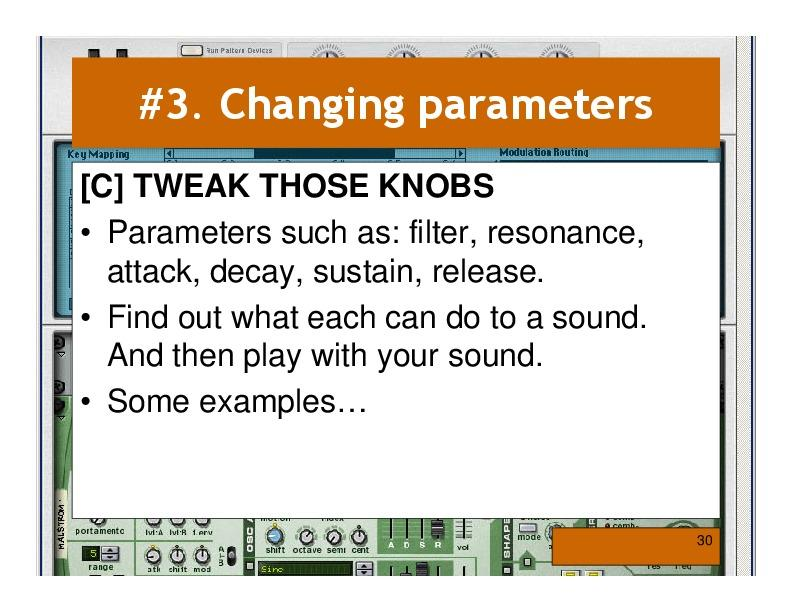paragraph: (77, 169, 673, 426)
title: (133, 79, 669, 136)
